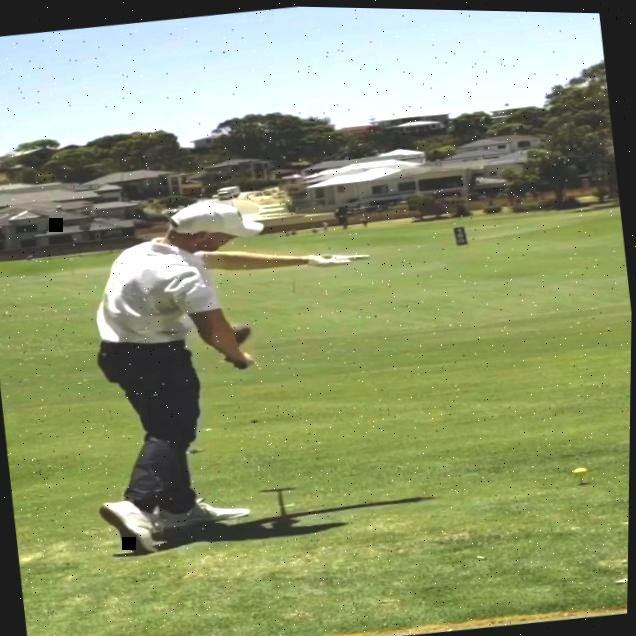ClubHead: (233, 321, 255, 342)
GolfBall: (573, 464, 588, 474)
